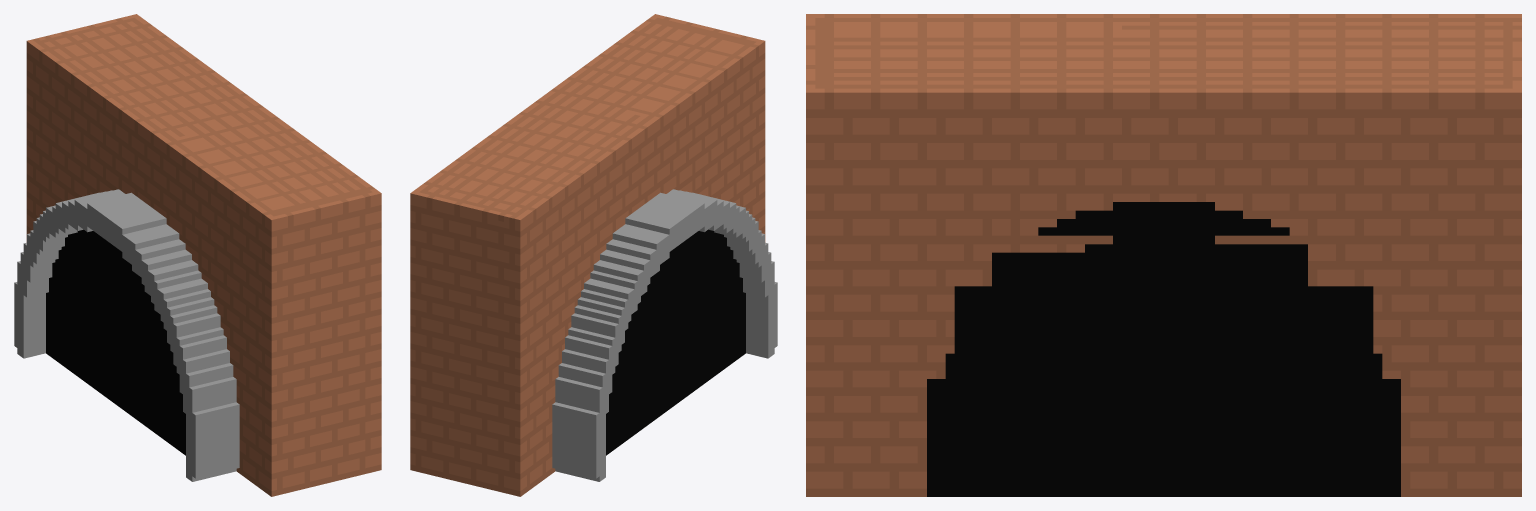
The model's file is tunel.obj.
The picture shows the model from 3 angles, left to right: view 1: azimuth 30°, elevation 25°; view 2: azimuth 150°, elevation 25°; view 3: azimuth 270°, elevation 25°; orthographic projection. The views are drawn at different scales.
Size of the model in its own units: 2.8 by 4.8 by 7.7.
1 material, 1 textured.
